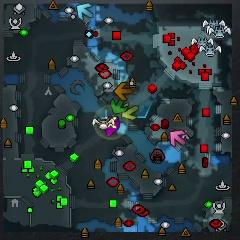p3: (104, 116, 120, 136)
x1: (170, 130, 185, 147)
x2: (122, 105, 141, 121)
x3: (77, 3, 93, 20)
x4: (110, 97, 129, 114)
x5: (114, 83, 133, 102)
